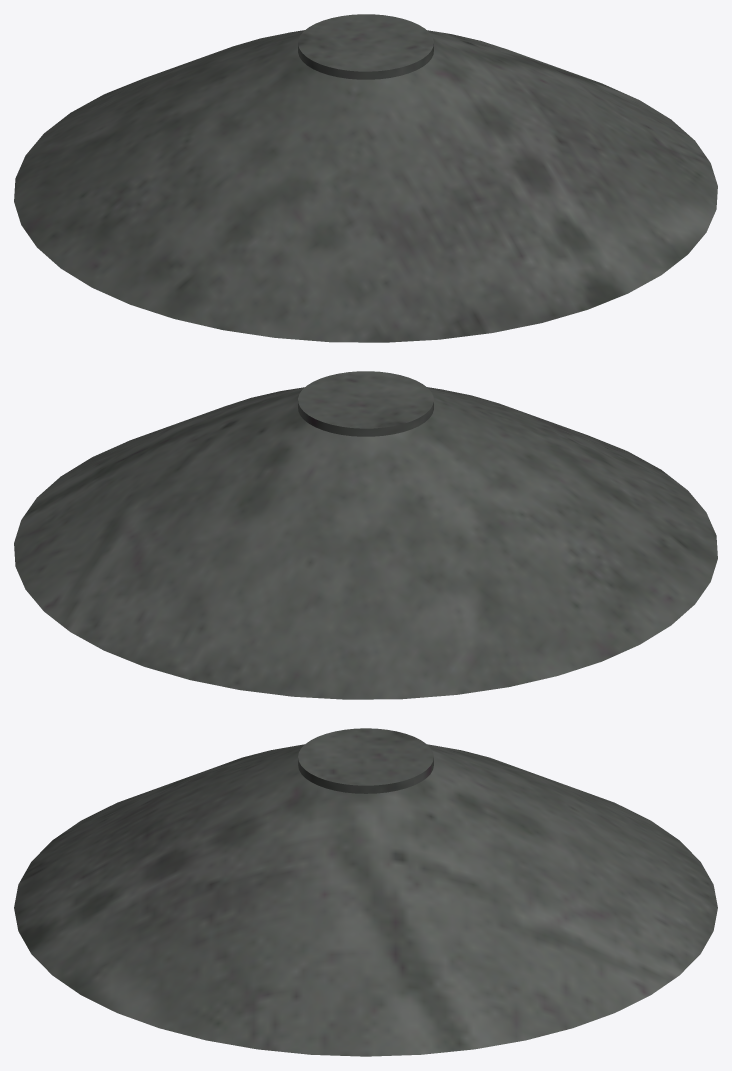
The model's file is hanging_light.fbx.
3 views of the same model, one above another, from view 1: azimuth 30°, elevation 25°; view 2: azimuth 150°, elevation 25°; view 3: azimuth 270°, elevation 25° (orthographic).
Parts seen in each view (by area): view 1: hanging_light; view 2: hanging_light; view 3: hanging_light.
Part boxes in pixels (x1,y1,x2,y2): hanging_light: (14, 14, 717, 342); hanging_light: (14, 371, 717, 699); hanging_light: (14, 728, 717, 1056).
Size of the model in its own units: 98.6 by 27.76 by 98.6.
